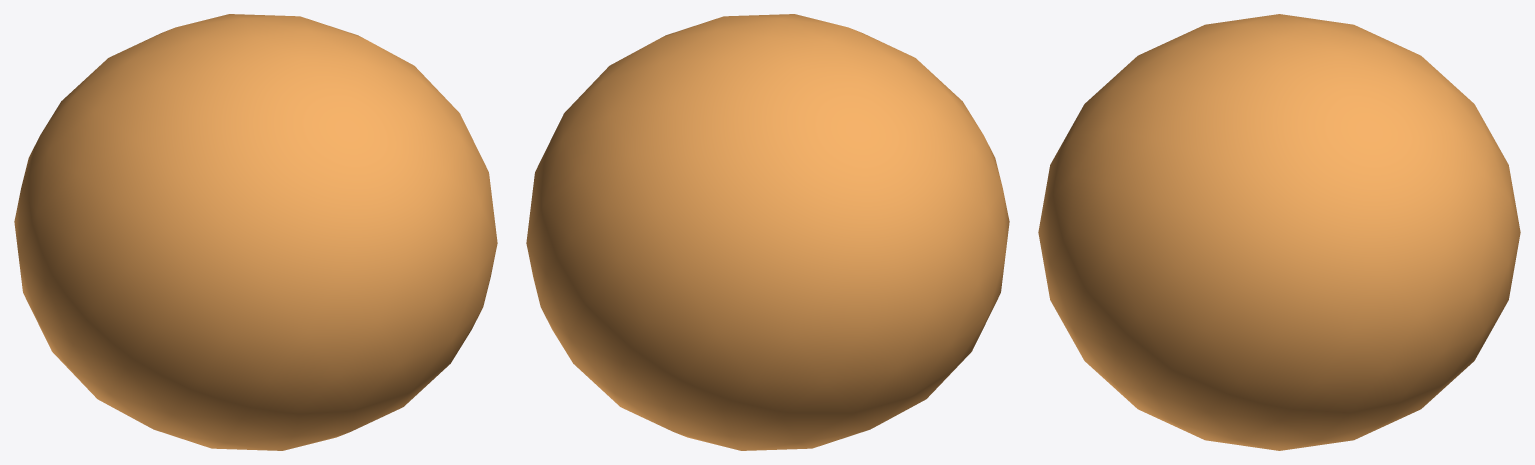
The model's file is tangerine_0.glb.
3 views of the same model, side by side, from view 1: azimuth 30°, elevation 25°; view 2: azimuth 150°, elevation 25°; view 3: azimuth 270°, elevation 25° (orthographic).
Visible parts, largest first — view 1: tangerine_0; view 2: tangerine_0; view 3: tangerine_0.
Boxes of the visible parts, x1,y1,x2,y2 form: tangerine_0: (14,14,497,450); tangerine_0: (526,14,1009,450); tangerine_0: (1038,14,1520,450).
Size of the model in its own units: 1.04 by 0.92 by 1.04.
